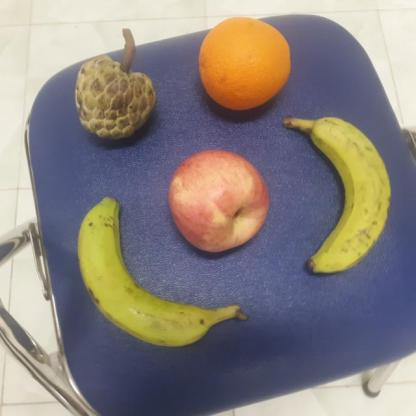annona: (70, 54, 170, 146)
apple: (166, 148, 274, 263)
banana: (74, 195, 247, 348), (282, 114, 398, 276)
orange: (195, 15, 295, 121)
